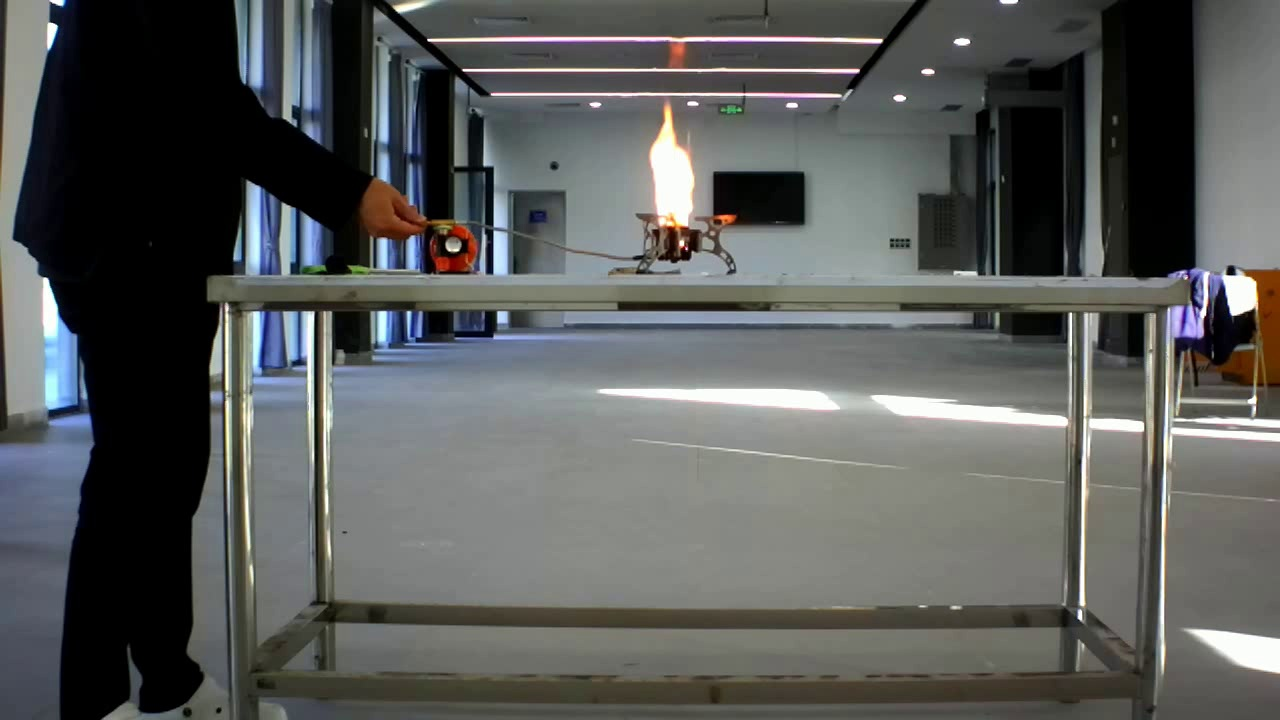Fire: (633, 96, 739, 262)
